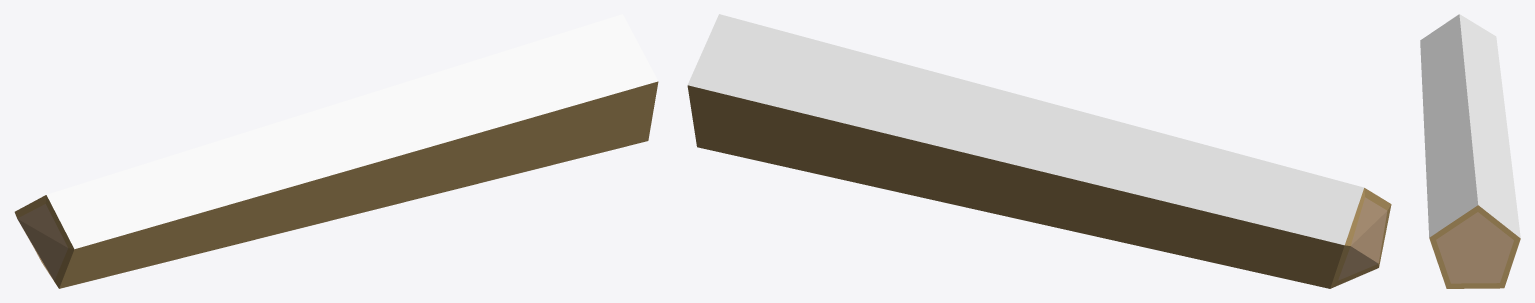
File: Simple_Log_Snow_04_LOD.fbx
3 views of the same model, side by side, from view 1: azimuth 30°, elevation 25°; view 2: azimuth 150°, elevation 25°; view 3: azimuth 270°, elevation 25° (orthographic). The views are drawn at different scales.
Visible parts, largest first — view 1: Simple_Log_Snow_04_LOD0; view 2: Simple_Log_Snow_04_LOD0; view 3: Simple_Log_Snow_04_LOD0.
Boxes of the visible parts, x1,y1,x2,y2 form: Simple_Log_Snow_04_LOD0: [14, 14, 658, 288]; Simple_Log_Snow_04_LOD0: [687, 14, 1391, 288]; Simple_Log_Snow_04_LOD0: [1420, 14, 1520, 288].
Size of what is drawn, in the model's own units: 122 by 21.84 by 24.16.
